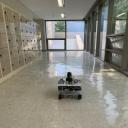cart: (58, 78, 82, 100)
